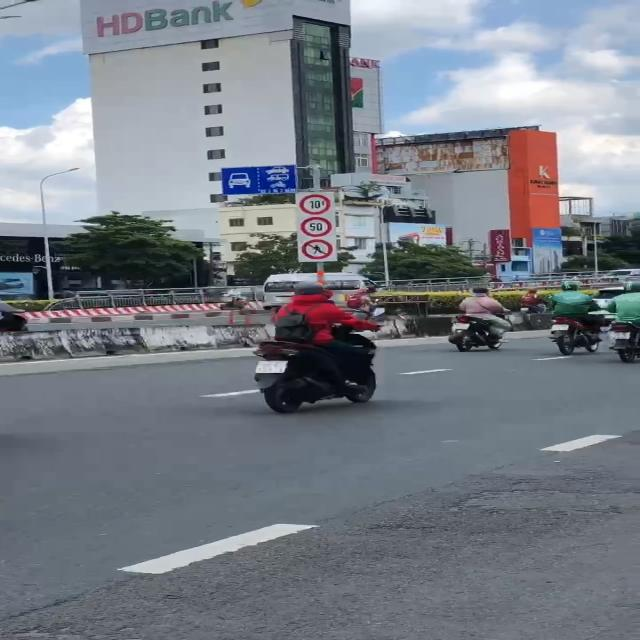Bien bao cam nguoi di bo: (301, 238, 337, 262)
Bien bao toc do toi da cho phep: (300, 215, 336, 238)
